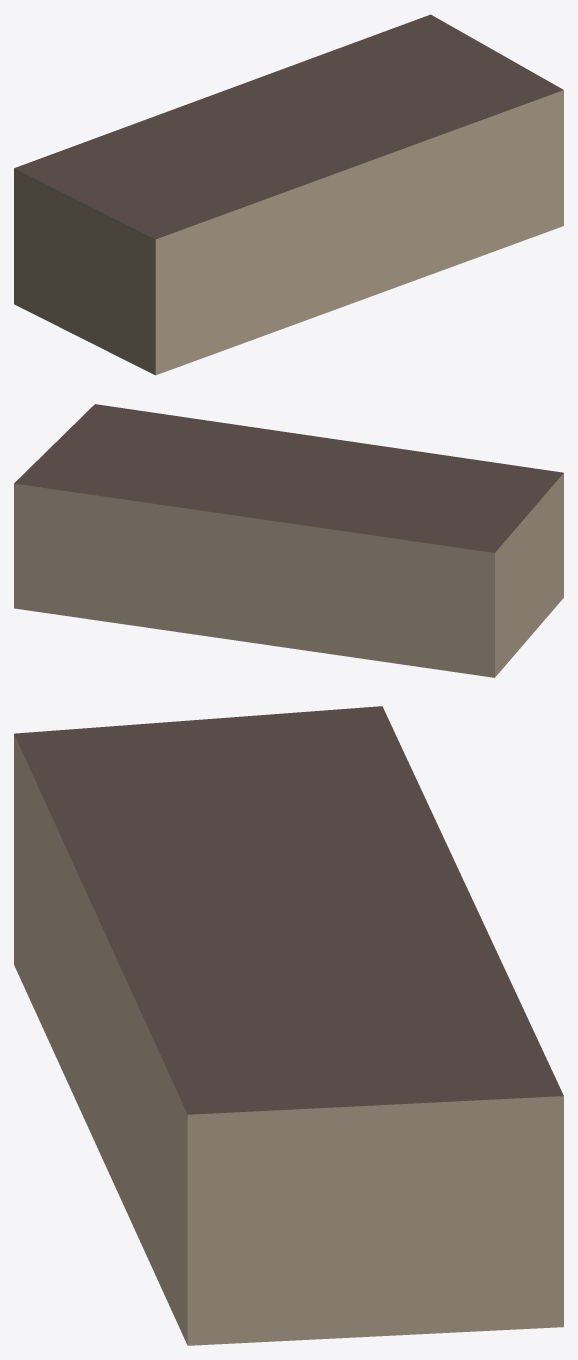
The picture shows the model from 3 angles, top to bottom: view 1: azimuth 30°, elevation 25°; view 2: azimuth 150°, elevation 25°; view 3: azimuth 270°, elevation 25°; orthographic projection. The views are drawn at different scales.
Parts seen in each view (by area): view 1: HP-w1512911289; view 2: HP-w1512911289; view 3: HP-w1512911289.
Part boxes in pixels (x1,y1,x2,y2): HP-w1512911289: (14,14,563,375); HP-w1512911289: (14,404,563,677); HP-w1512911289: (14,706,563,1345).
Bounding box in the file's own units: 34.13 × 9 × 19.41.
